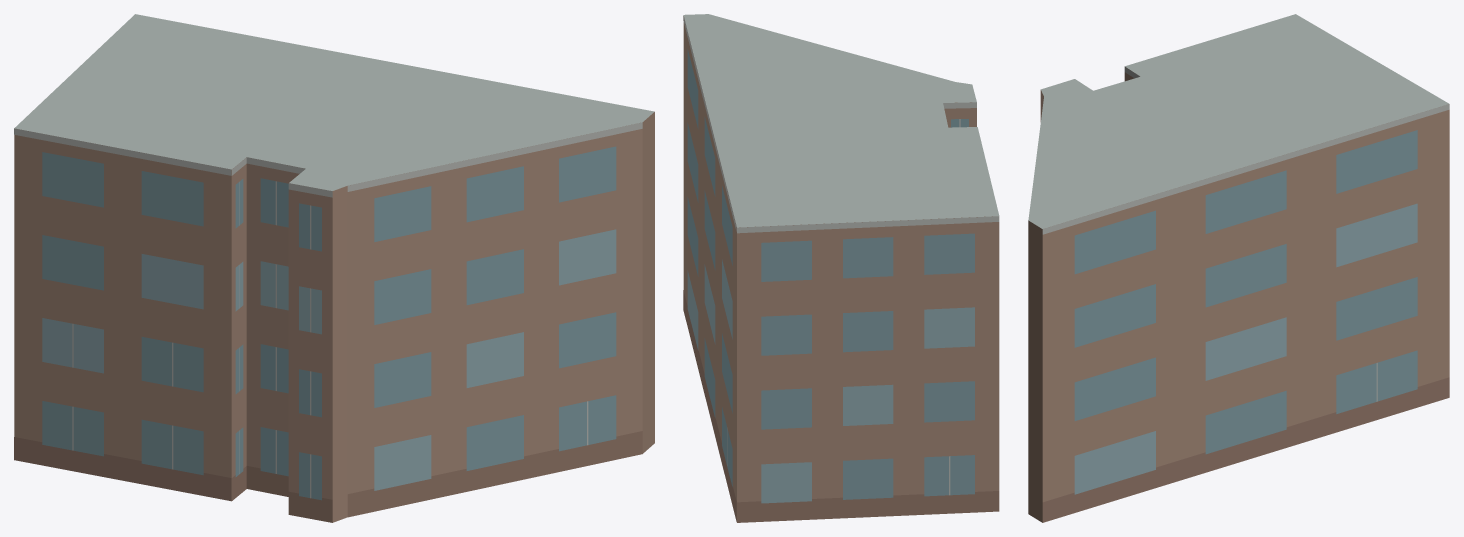
File: survey-upis-32458442.glb
The picture shows the model from 3 angles, left to right: view 1: azimuth 30°, elevation 25°; view 2: azimuth 150°, elevation 25°; view 3: azimuth 270°, elevation 25°; orthographic projection. The views are drawn at different scales.
Visible parts, largest first — view 1: survey-upis-32458442.tmp; view 2: survey-upis-32458442.tmp; view 3: survey-upis-32458442.tmp.
Boxes of the visible parts, bbox=[...] form: survey-upis-32458442.tmp: bbox=[14, 14, 654, 522]; survey-upis-32458442.tmp: bbox=[683, 14, 999, 522]; survey-upis-32458442.tmp: bbox=[1028, 14, 1449, 522].
Bounding box in the file's own units: 19.79 × 12.6 × 16.38.
